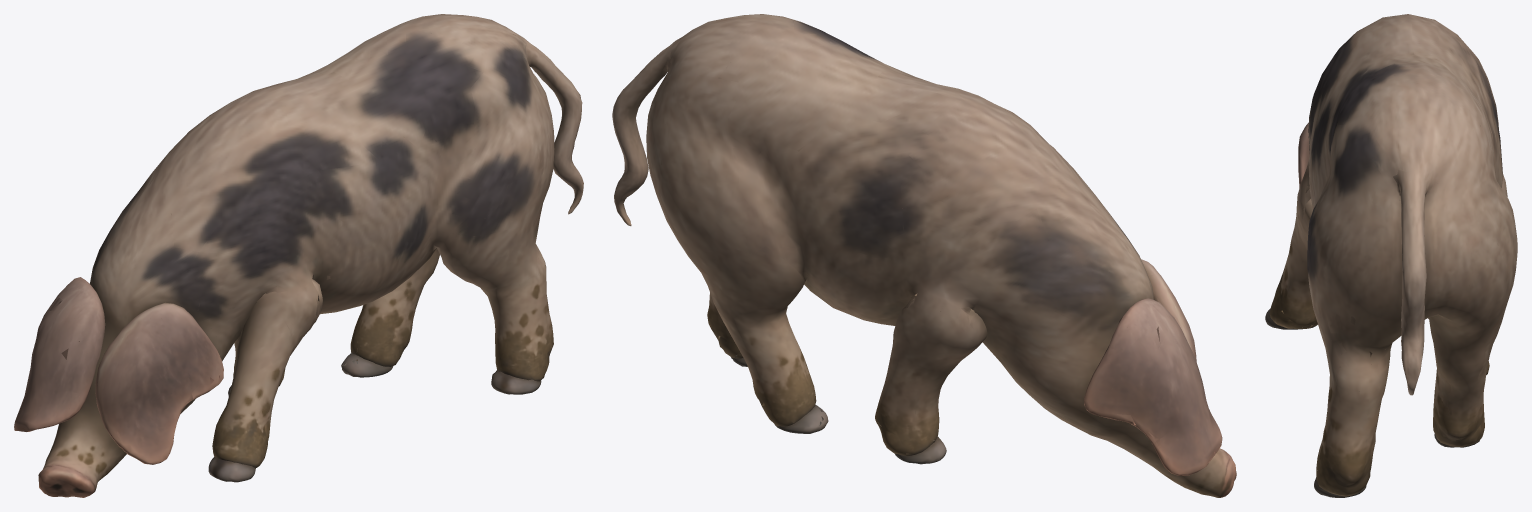
The model's file is cerdo_celta.glb.
3 views of the same model, side by side, from view 1: azimuth 30°, elevation 25°; view 2: azimuth 150°, elevation 25°; view 3: azimuth 270°, elevation 25° (orthographic). The views are drawn at different scales.
Visible parts, largest first — view 1: geometry_0; view 2: geometry_0; view 3: geometry_0.
Boxes of the visible parts, x1,y1,x2,y2 form: geometry_0: (14, 14, 583, 497); geometry_0: (612, 14, 1236, 497); geometry_0: (1265, 14, 1517, 497).
Size of the model in its own units: 1 by 0.6188 by 0.3589.
Materials: 1 (1 with a texture image).
